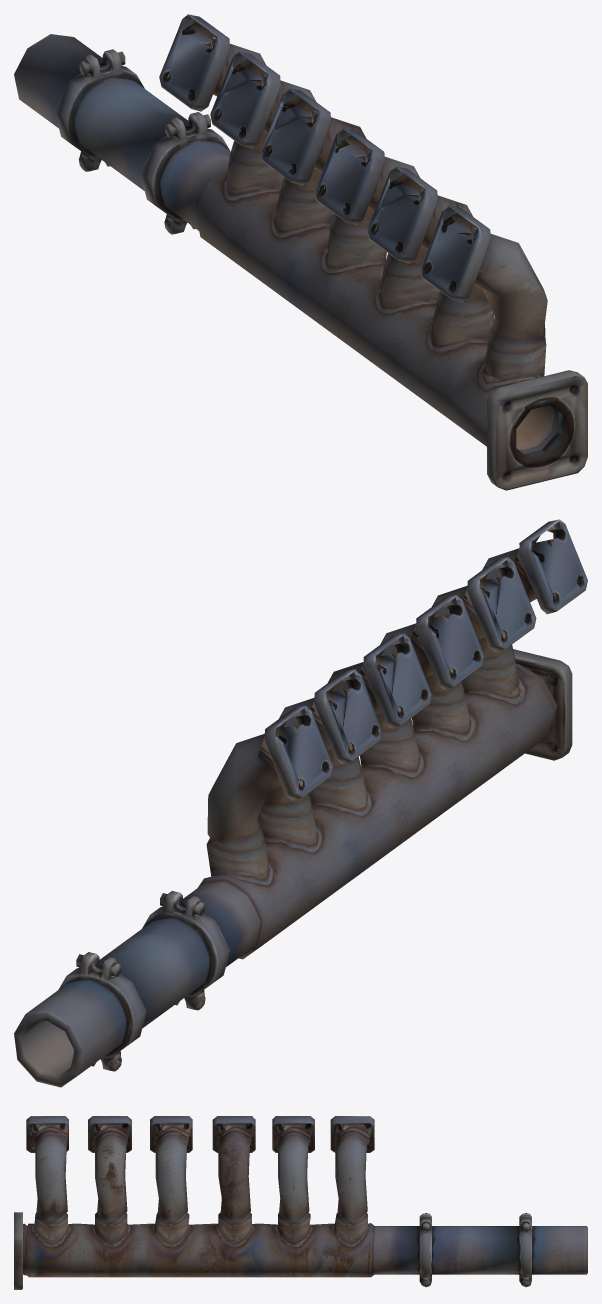
Rendered from exhaust_remesh.glb.
3 renders of one model, top to bottom at view 1: azimuth 30°, elevation 25°; view 2: azimuth 150°, elevation 25°; view 3: azimuth 270°, elevation 25°, orthographic. The views are drawn at different scales.
Visible parts, largest first — view 1: tripo_node_e1fc1731-9fc2-47bf-ba10-817a5; view 2: tripo_node_e1fc1731-9fc2-47bf-ba10-817a5; view 3: tripo_node_e1fc1731-9fc2-47bf-ba10-817a5.
Part boxes in pixels (<box>): tripo_node_e1fc1731-9fc2-47bf-ba10-817a5: <box>14,14,587,490</box>; tripo_node_e1fc1731-9fc2-47bf-ba10-817a5: <box>14,519,587,1087</box>; tripo_node_e1fc1731-9fc2-47bf-ba10-817a5: <box>14,1116,587,1289</box>.
Size of the model in its own units: 0.1429 by 0.2955 by 1.
Materials: 1 (1 with a texture image).
